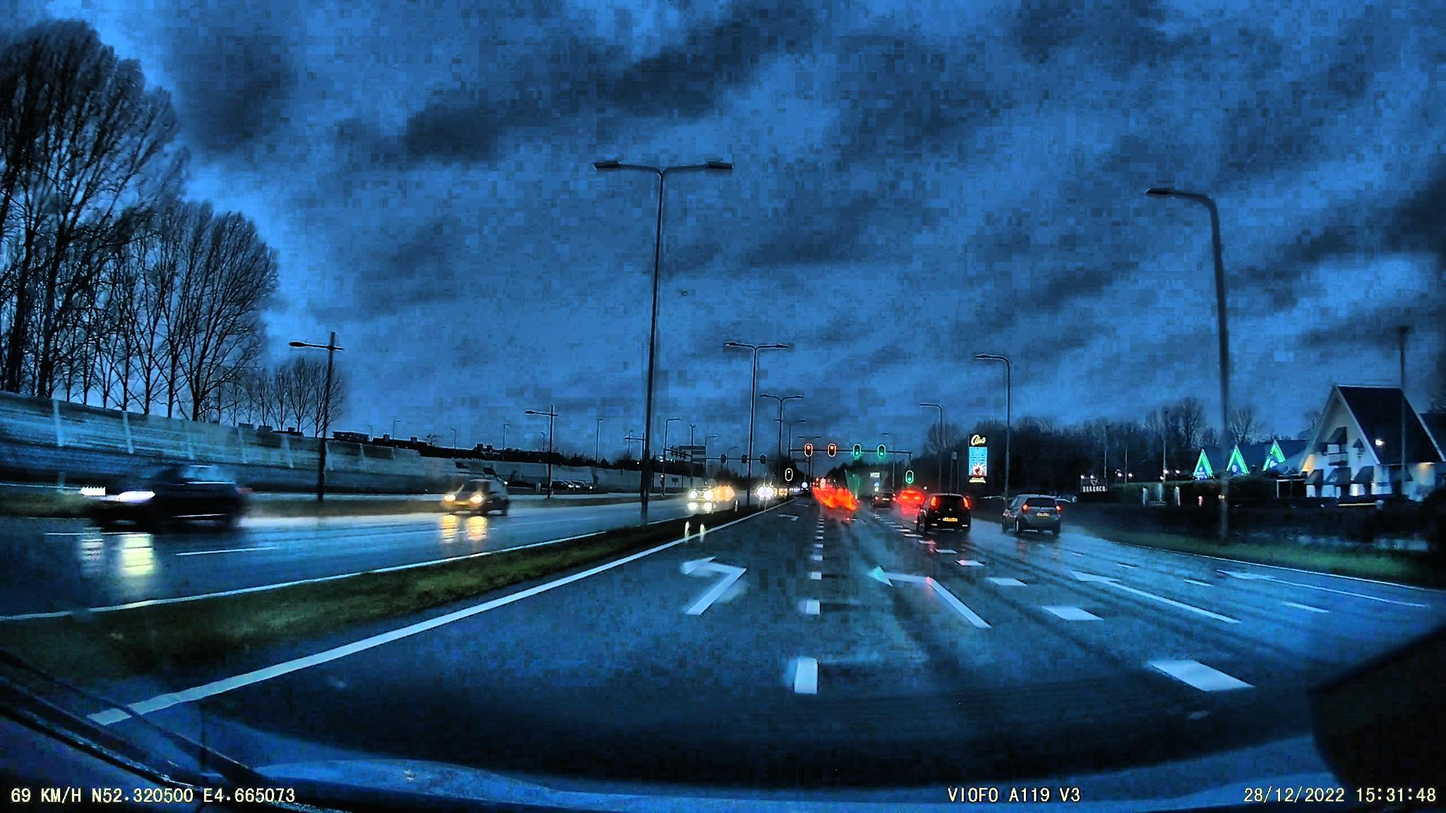Roads: (10, 502, 1446, 813)
